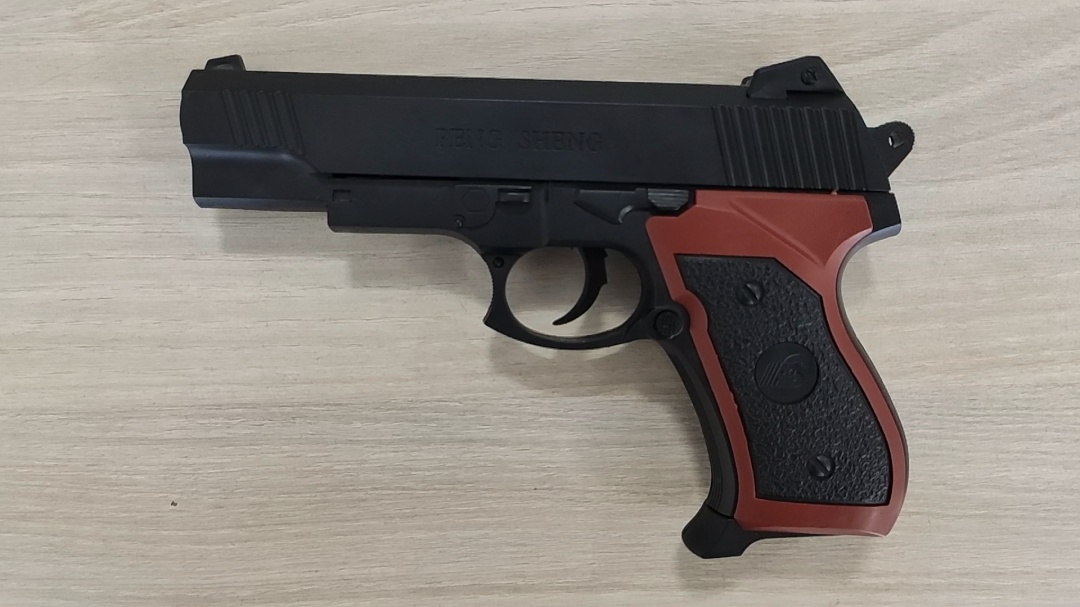gun: (427, 234, 573, 323)
